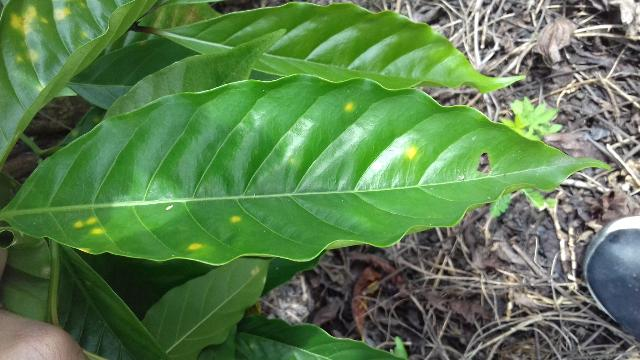rust_level_1: (1, 71, 624, 269)
